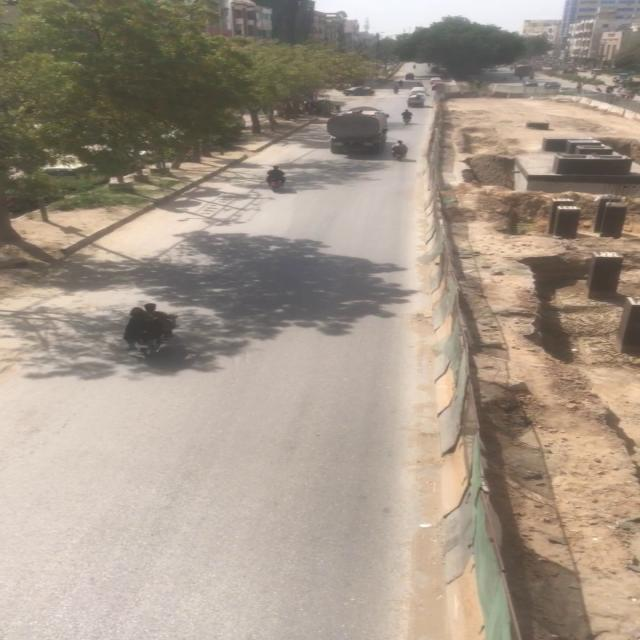motorbike: (122, 300, 183, 358), (261, 162, 292, 194), (388, 137, 414, 161), (400, 107, 415, 127)
truck: (326, 106, 389, 154)
